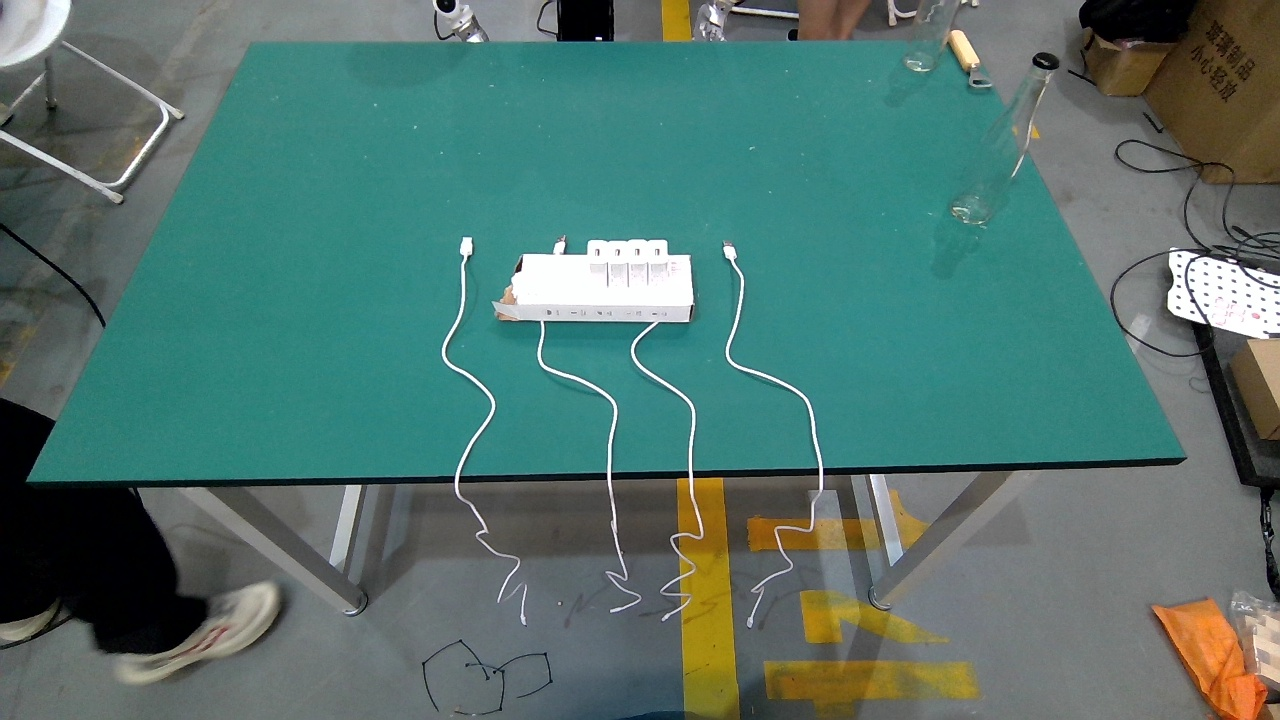usb_a_plug: (719, 236, 740, 266), (551, 232, 568, 262), (460, 235, 474, 265)
